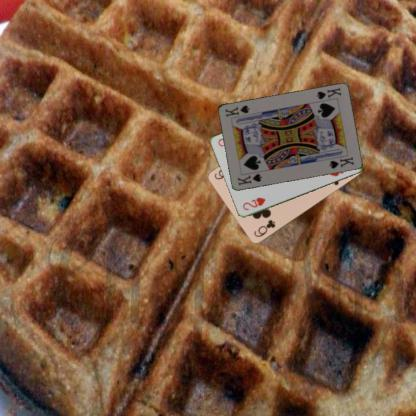2h: (240, 194, 267, 212)
6c: (251, 217, 277, 239)
Ks: (234, 171, 263, 187), (314, 85, 342, 101)
